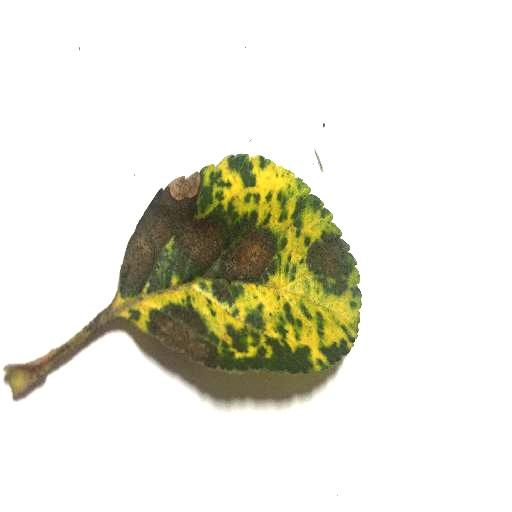Brown_Spot: (114, 155, 280, 389), (294, 226, 359, 293)
